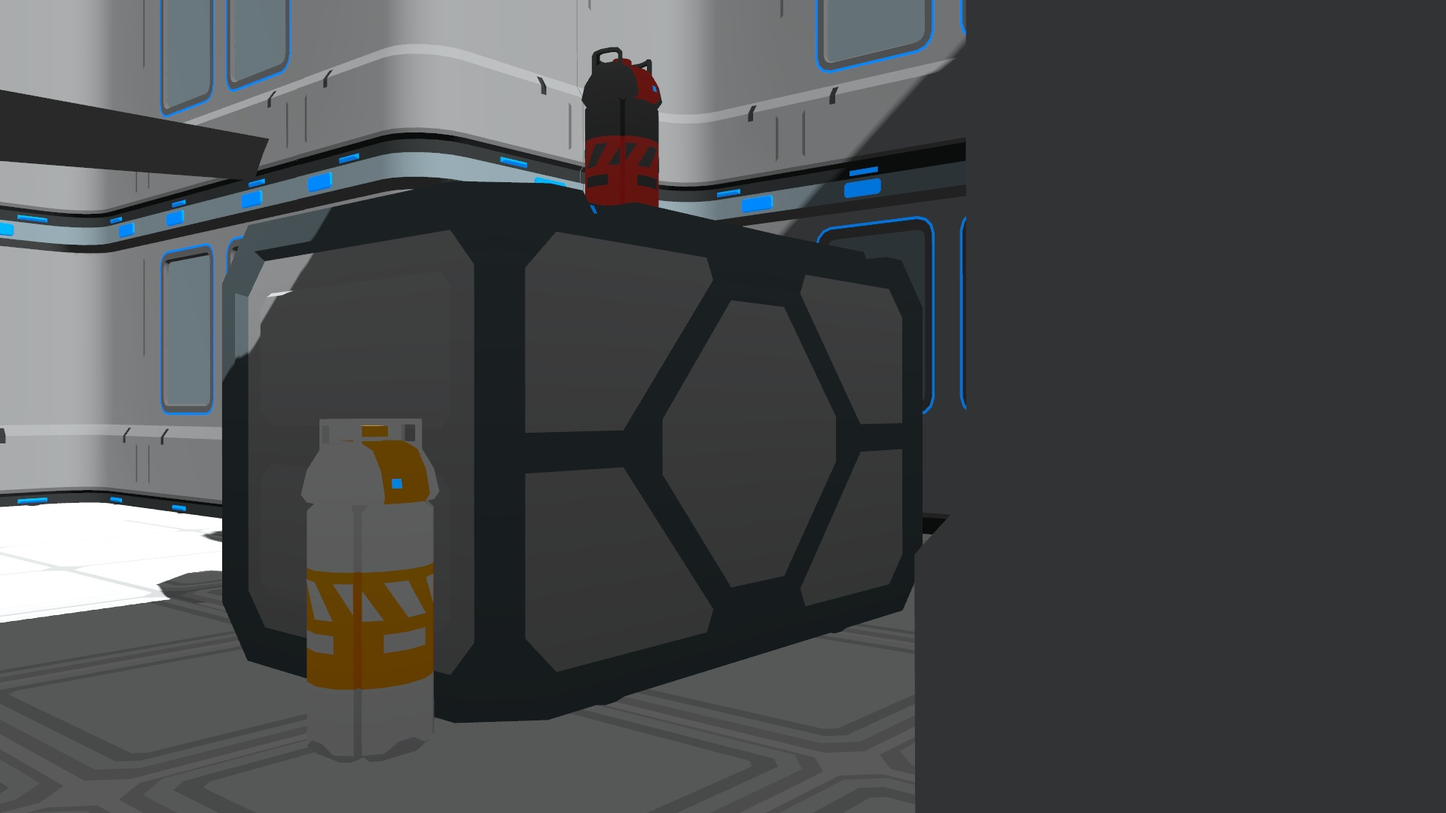red_barrel: (573, 39, 679, 221)
yellow_barrel: (287, 410, 443, 769)
